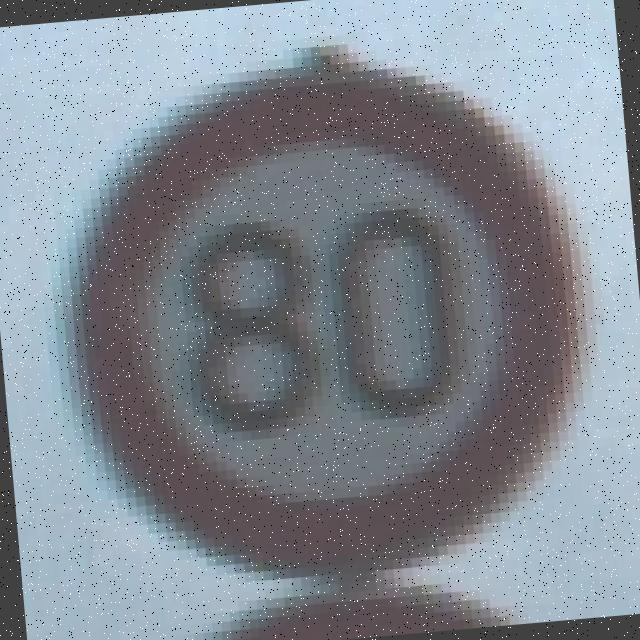Ograniczenie predkosci do 80: (64, 60, 586, 589)
